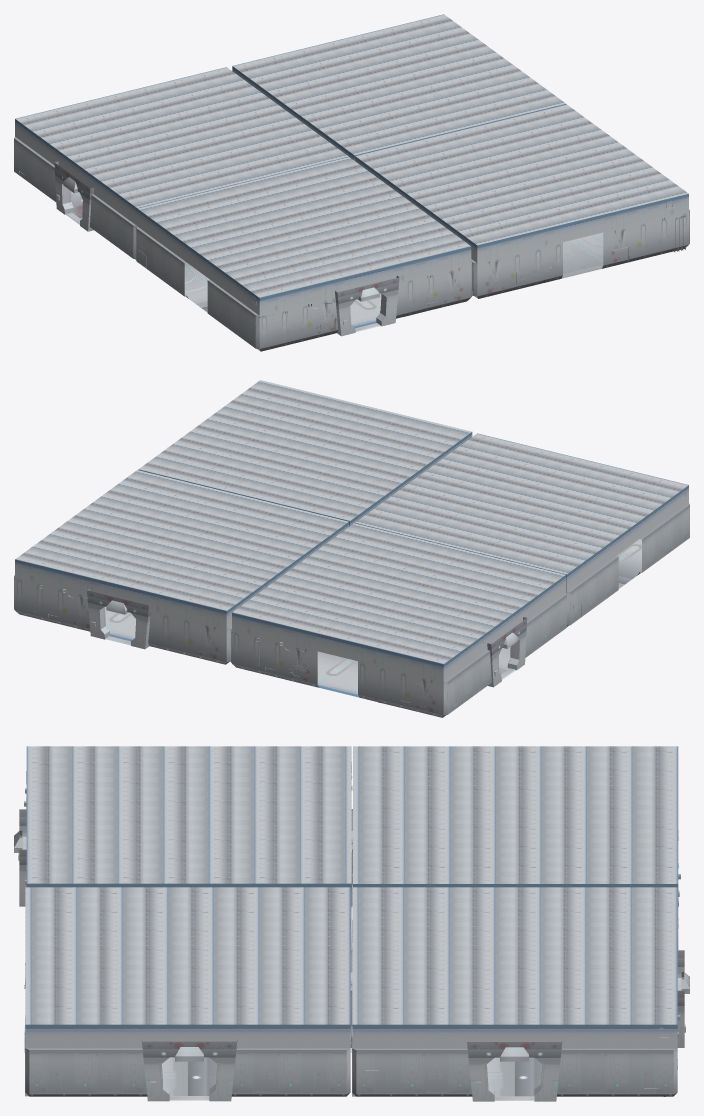
The model's file is Combined_Mesh_root_scene__9_f65a131e__ZombiesII_laboratory_01_d_47037629_c1f257_part002.obj.
The picture shows the model from 3 angles, top to bottom: view 1: azimuth 30°, elevation 25°; view 2: azimuth 150°, elevation 25°; view 3: azimuth 270°, elevation 25°; orthographic projection. The views are drawn at different scales.
Size of the model in its own units: 83.99 by 10.21 by 83.14.
Materials: 233 (233 with a texture image).
